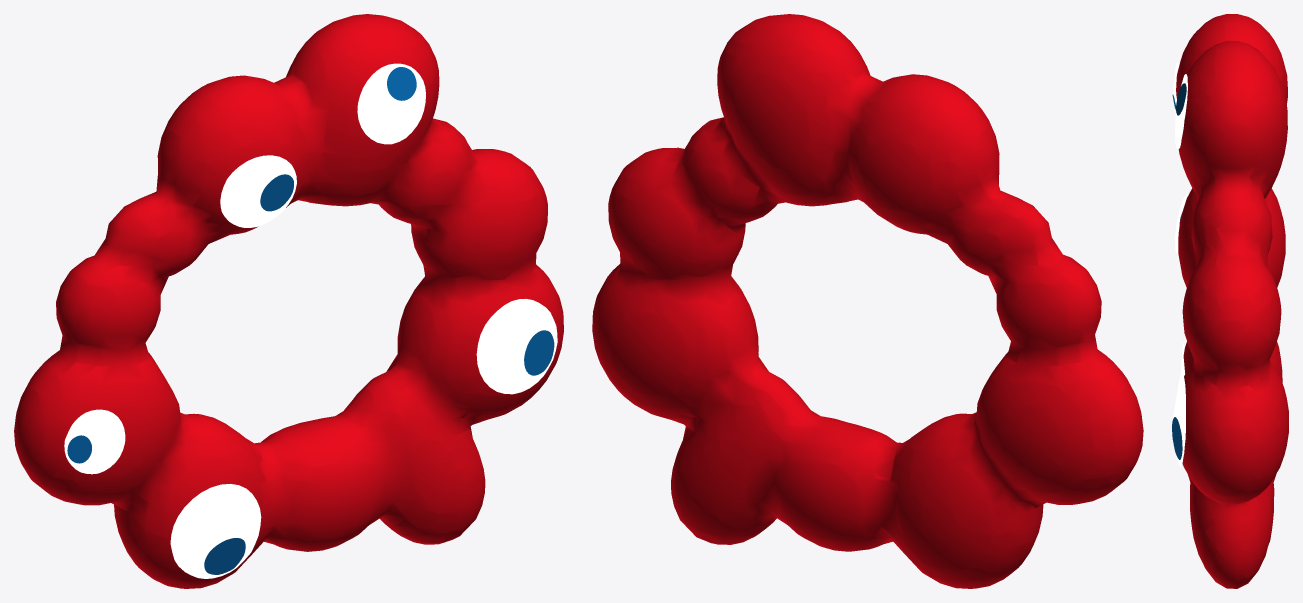
3 views of the same model, side by side, from view 1: azimuth 30°, elevation 25°; view 2: azimuth 150°, elevation 25°; view 3: azimuth 270°, elevation 25° (orthographic). The views are drawn at different scales.
Visible parts, largest first — view 1: みゃくリング2, 目.004, 目, 目.001, 目.002, 目.003; view 2: みゃくリング2; view 3: みゃくリング2, 目, 目.001, 目.003.
Part boxes in pixels (x1,y1,x2,y2): みゃくリング2: (14, 14, 563, 588); 目.004: (170, 484, 261, 578); 目: (476, 299, 557, 394); 目.001: (357, 63, 425, 144); 目.002: (220, 155, 296, 227); 目.003: (64, 409, 125, 474); みゃくリング2: (592, 14, 1143, 588); みゃくリング2: (1176, 14, 1288, 588); 目: (1172, 374, 1185, 466); 目.001: (1175, 74, 1187, 149); 目.003: (1175, 193, 1188, 253).
Size of the model in its own units: 2.74 by 2.63 by 0.557.
